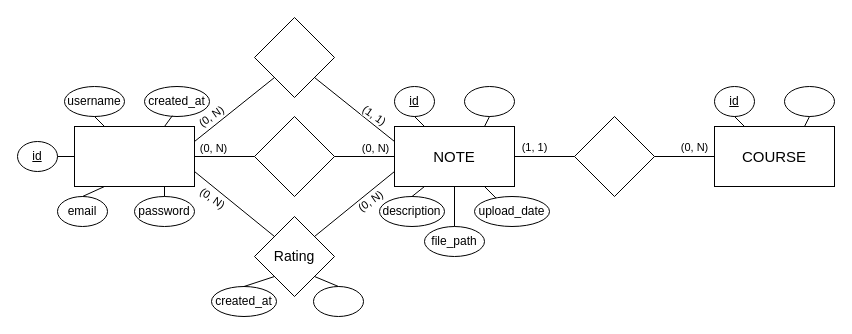
This 852x334 diagram has some shape labels left out. Here are the shapes that lost their labels. From the top down, the centre of each, then its label:
point 294,57: Uploads
point 489,101: title
point 809,101: name
point 134,156: USER
point 294,156: Favorite
point 614,156: Belongs to
point 338,301: value
